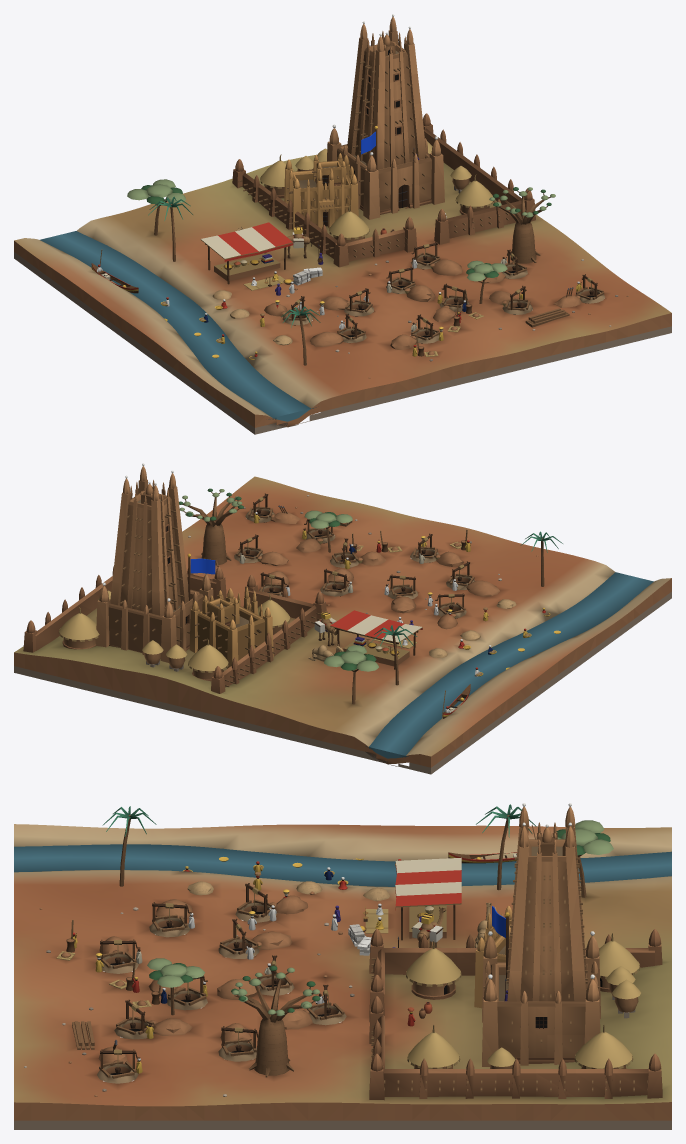
File: lm_altinmadeni.glb
3 views of the same model, one above another, from view 1: azimuth 30°, elevation 25°; view 2: azimuth 150°, elevation 25°; view 3: azimuth 270°, elevation 25° (orthographic). The views are drawn at different scales.
Visible parts, largest first — view 1: lm_altinmadeni; view 2: lm_altinmadeni; view 3: lm_altinmadeni.
Part boxes in pixels (x1,y1,x2,y2): lm_altinmadeni: [14, 14, 671, 434]; lm_altinmadeni: [14, 463, 671, 774]; lm_altinmadeni: [14, 803, 671, 1129].
Bounding box in the file's own units: 2.32 × 1 × 2.32.
1 material, 1 textured.
